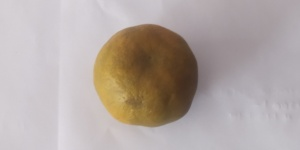BAD: (93, 22, 198, 130)
